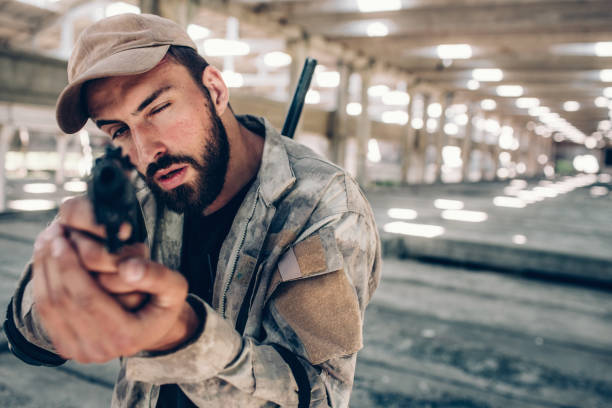gun: (88, 142, 149, 256), (279, 55, 321, 139)
